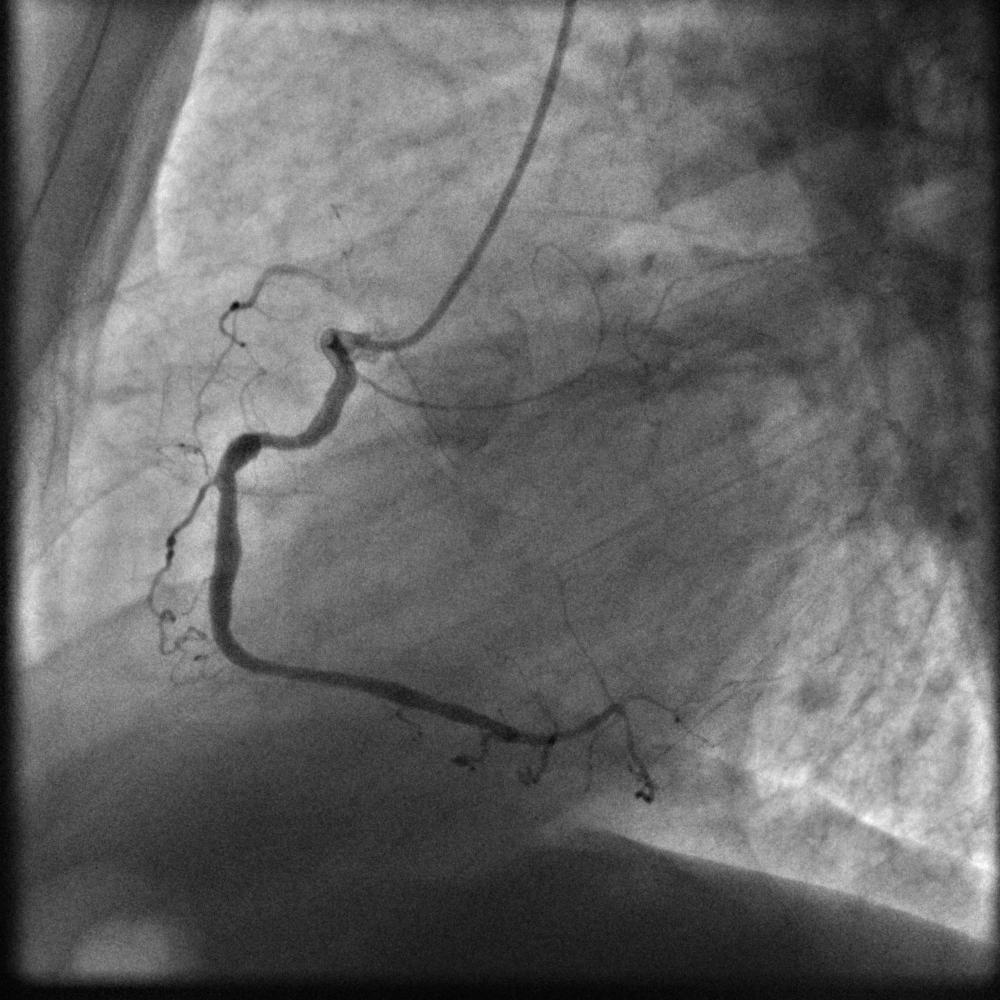Stenosis: (255, 427, 284, 459)
